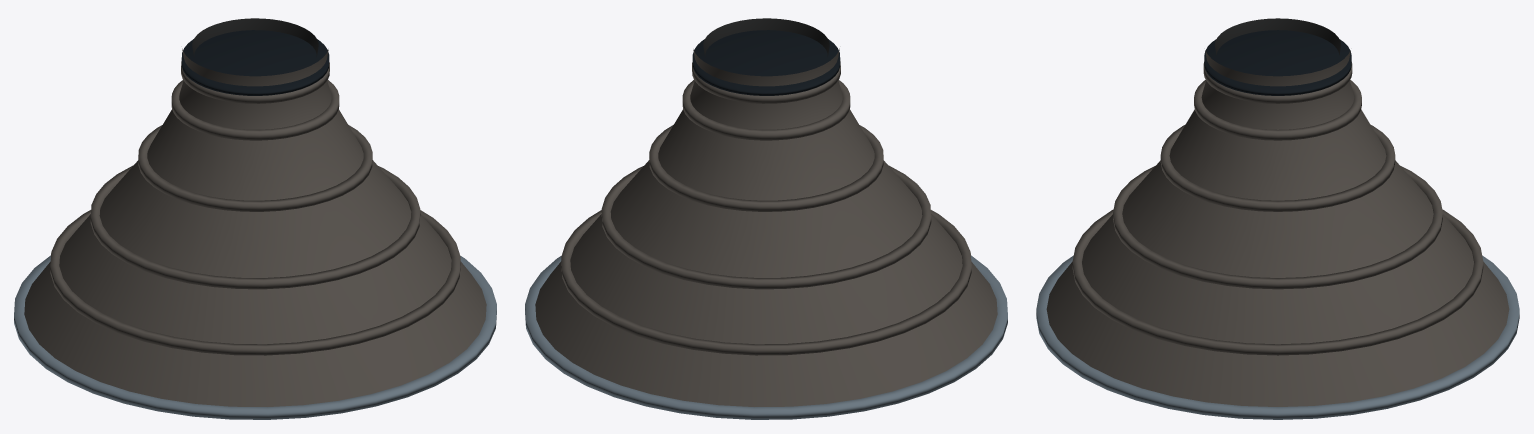
The model's file is eagle_dps.glb.
3 renders of one model, left to right at view 1: azimuth 30°, elevation 25°; view 2: azimuth 150°, elevation 25°; view 3: azimuth 270°, elevation 25°, orthographic.
Visible parts, largest first — view 1: eagle_descentdpsnozzlemesh.mesh_Heat-darkened_nickel, eagle_descentdpsnozzlemesh.mesh_Machined_steel, eagle_descentdpsnozzlemesh.mesh_Dark_recess, eagle_descentdpsnozzlemesh.mesh_Nozzle_interior; view 2: eagle_descentdpsnozzlemesh.mesh_Heat-darkened_nickel, eagle_descentdpsnozzlemesh.mesh_Machined_steel, eagle_descentdpsnozzlemesh.mesh_Dark_recess, eagle_descentdpsnozzlemesh.mesh_Nozzle_interior; view 3: eagle_descentdpsnozzlemesh.mesh_Heat-darkened_nickel, eagle_descentdpsnozzlemesh.mesh_Machined_steel, eagle_descentdpsnozzlemesh.mesh_Dark_recess, eagle_descentdpsnozzlemesh.mesh_Nozzle_interior.
Part boxes in pixels (x1,y1,x2,y2): eagle_descentdpsnozzlemesh.mesh_Heat-darkened_nickel: [24, 48, 486, 406]; eagle_descentdpsnozzlemesh.mesh_Machined_steel: [14, 255, 496, 419]; eagle_descentdpsnozzlemesh.mesh_Dark_recess: [181, 30, 329, 95]; eagle_descentdpsnozzlemesh.mesh_Nozzle_interior: [192, 18, 318, 56]; eagle_descentdpsnozzlemesh.mesh_Heat-darkened_nickel: [535, 48, 997, 406]; eagle_descentdpsnozzlemesh.mesh_Machined_steel: [525, 255, 1007, 419]; eagle_descentdpsnozzlemesh.mesh_Dark_recess: [692, 30, 840, 95]; eagle_descentdpsnozzlemesh.mesh_Nozzle_interior: [703, 18, 829, 56]; eagle_descentdpsnozzlemesh.mesh_Heat-darkened_nickel: [1046, 50, 1509, 406]; eagle_descentdpsnozzlemesh.mesh_Machined_steel: [1036, 255, 1519, 419]; eagle_descentdpsnozzlemesh.mesh_Dark_recess: [1204, 30, 1351, 95]; eagle_descentdpsnozzlemesh.mesh_Nozzle_interior: [1214, 18, 1341, 54].
Bounding box in the file's own units: 1.38 × 0.86 × 1.38.
